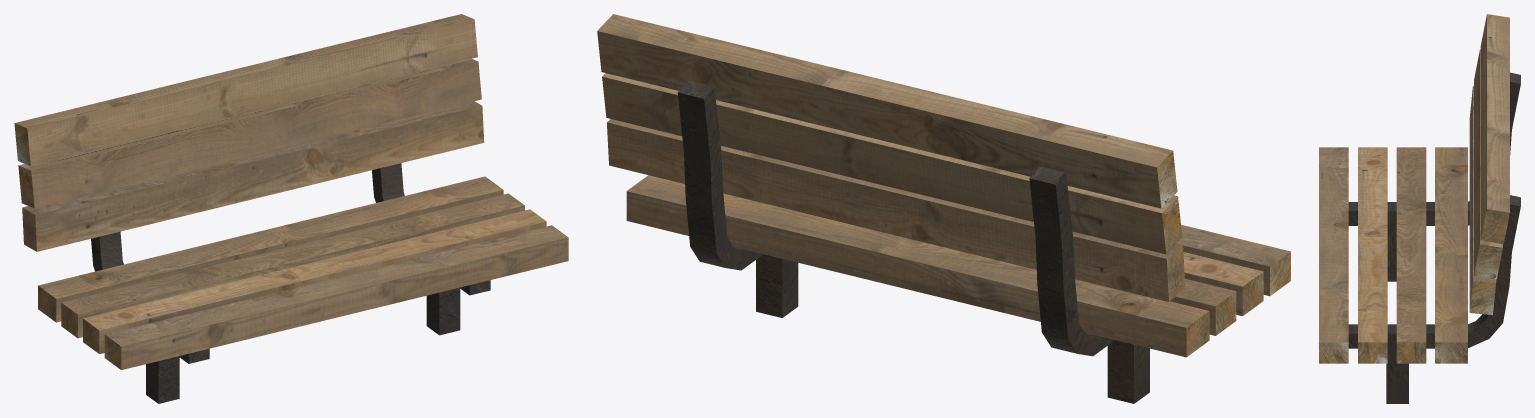
Rendered from bench.fbx.
The picture shows the model from 3 angles, left to right: view 1: azimuth 30°, elevation 25°; view 2: azimuth 150°, elevation 25°; view 3: azimuth 270°, elevation 25°; orthographic projection. The views are drawn at different scales.
Parts seen in each view (by area): view 1: Cube; view 2: Cube; view 3: Cube.
Boxes of the visible parts, x1,y1,x2,y2 form: Cube: [14, 14, 568, 403]; Cube: [597, 14, 1290, 403]; Cube: [1319, 14, 1520, 403].
Bounding box in the file's own units: 637 × 344 × 279.
